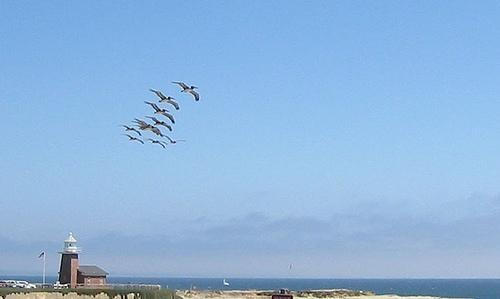car: (12, 281, 37, 289)
truck: (0, 280, 25, 288)
